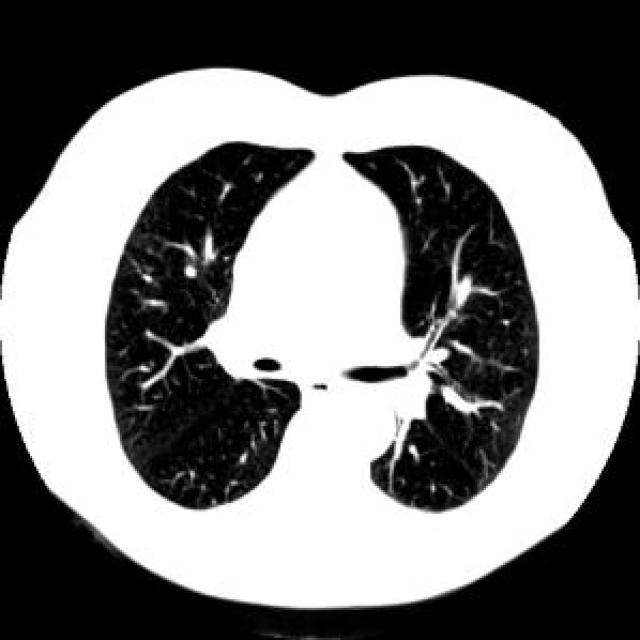Tumor: (148, 276, 152, 281)
